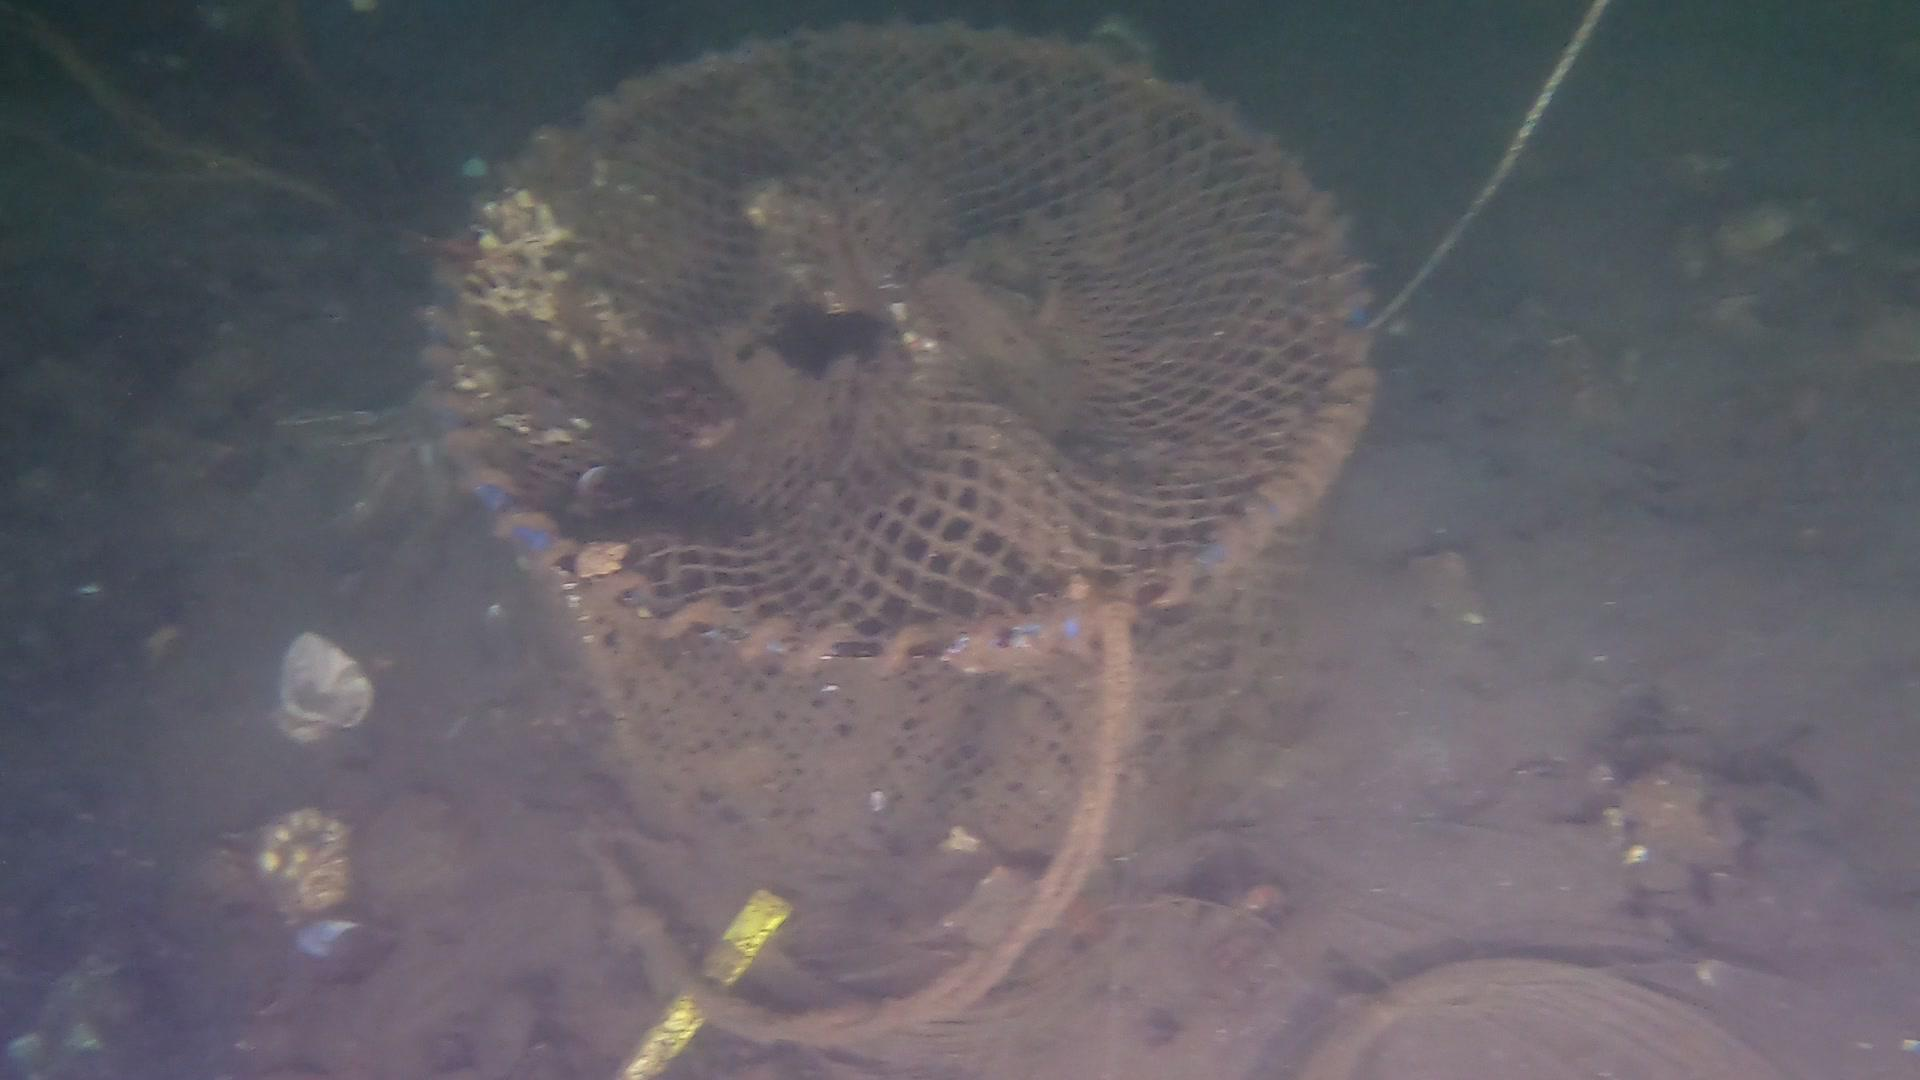bundle of ropes: (589, 609, 1131, 1047)
circular fish trap: (425, 18, 1385, 864)
rope: (1360, 0, 1607, 335)
